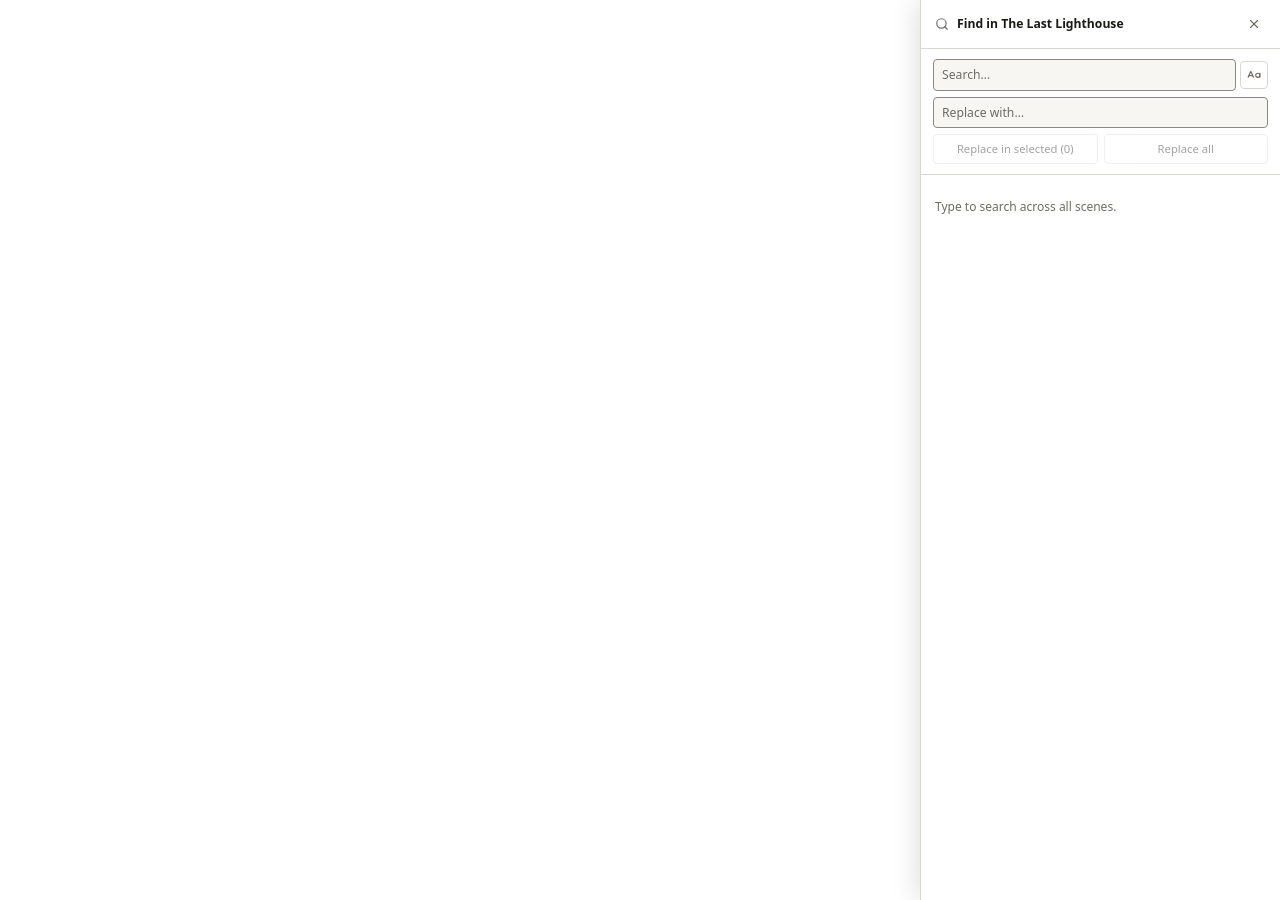
replace across the story › says how many it also replaced in takes that don't count
The image size is (1280, 900).
Type "Margaret" into the field named "Search term" at (1084, 75), box [933,59,1236,90]
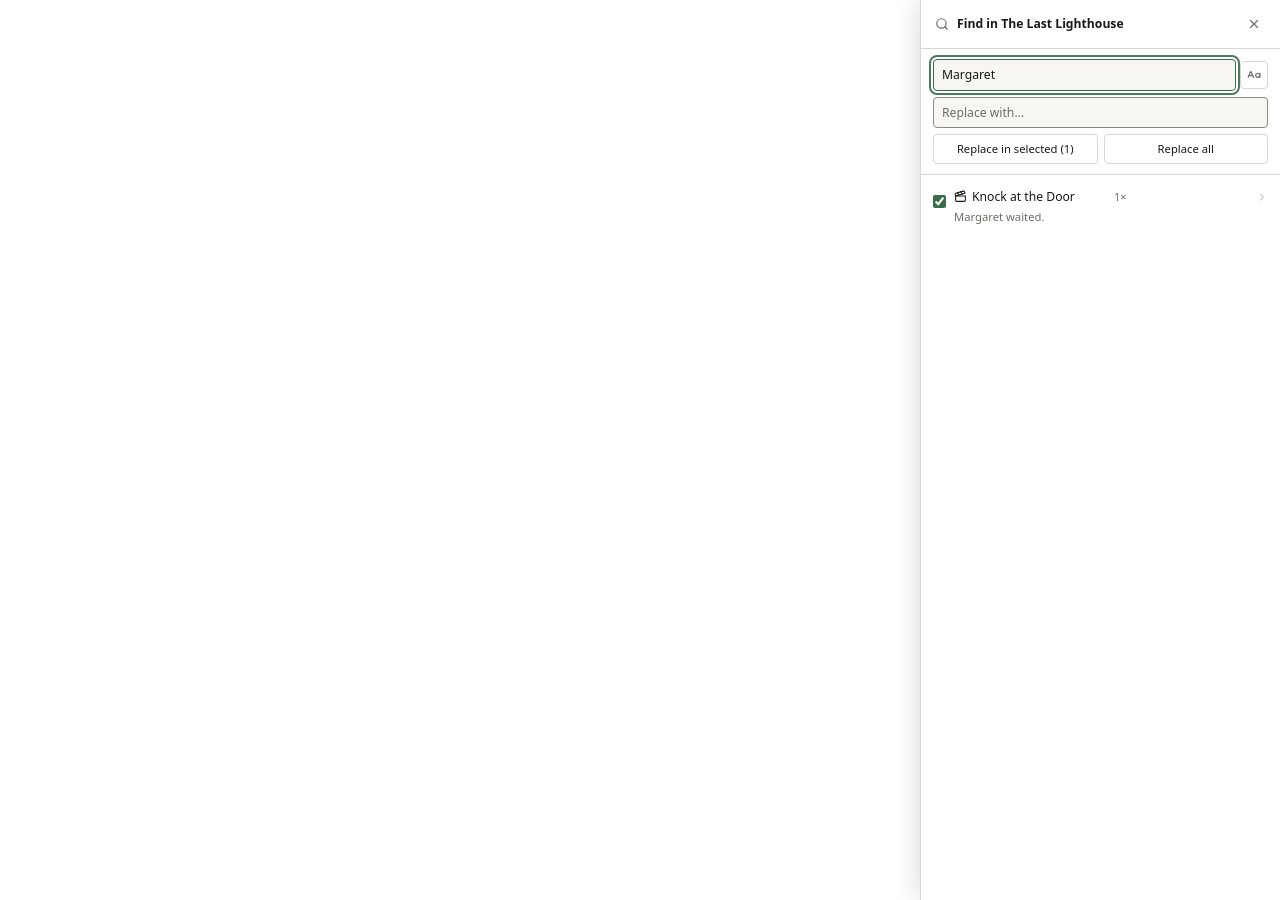
Expected: the text "Knock at the Door" is shown, [972,188,1075,205]
Click the button "Replace all" at (1186, 149), box [1104,134,1268,164]
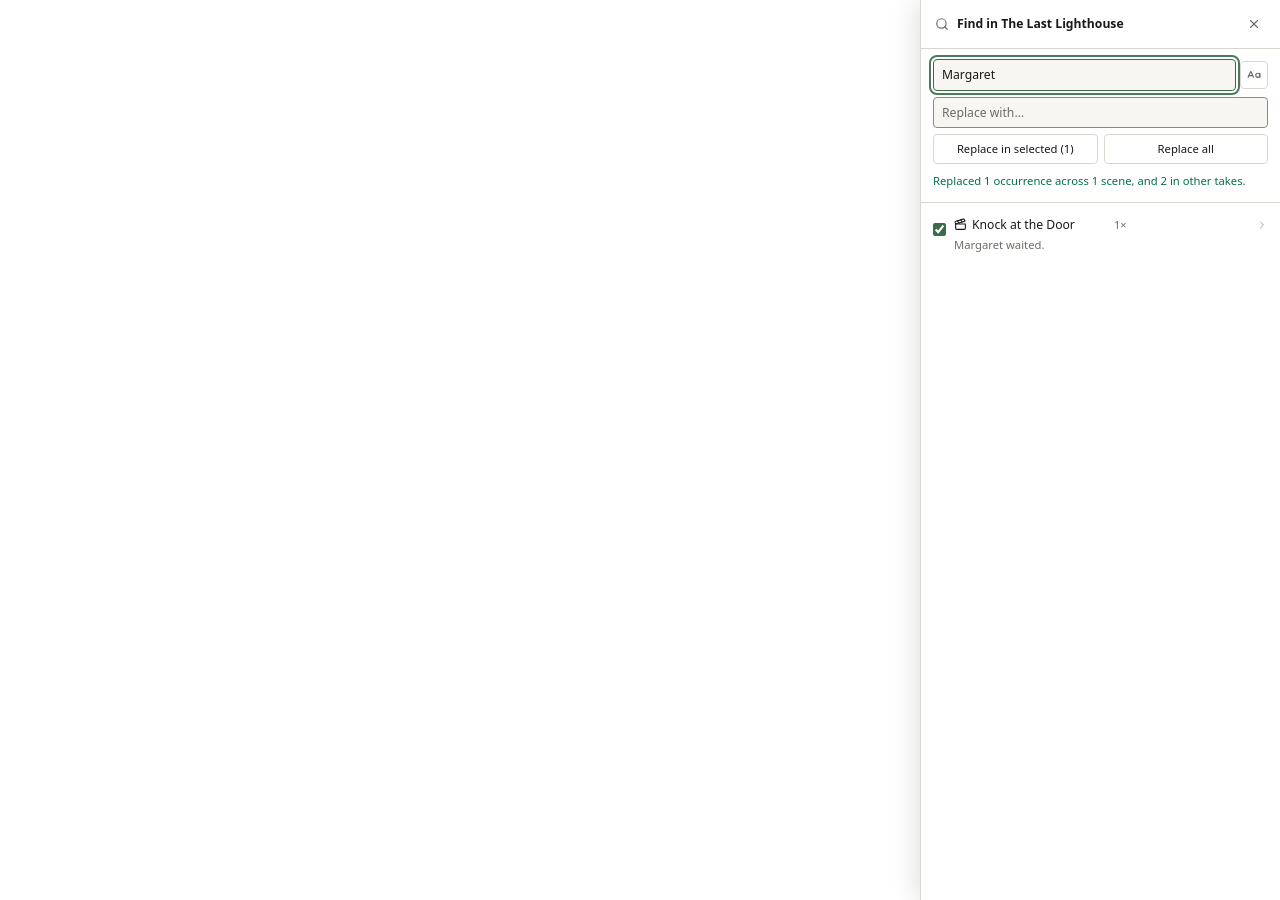
Expected: the text "Replaced 1 occurrence across 1 scene, and 2 in other takes." is shown, [933,170,1268,192]
